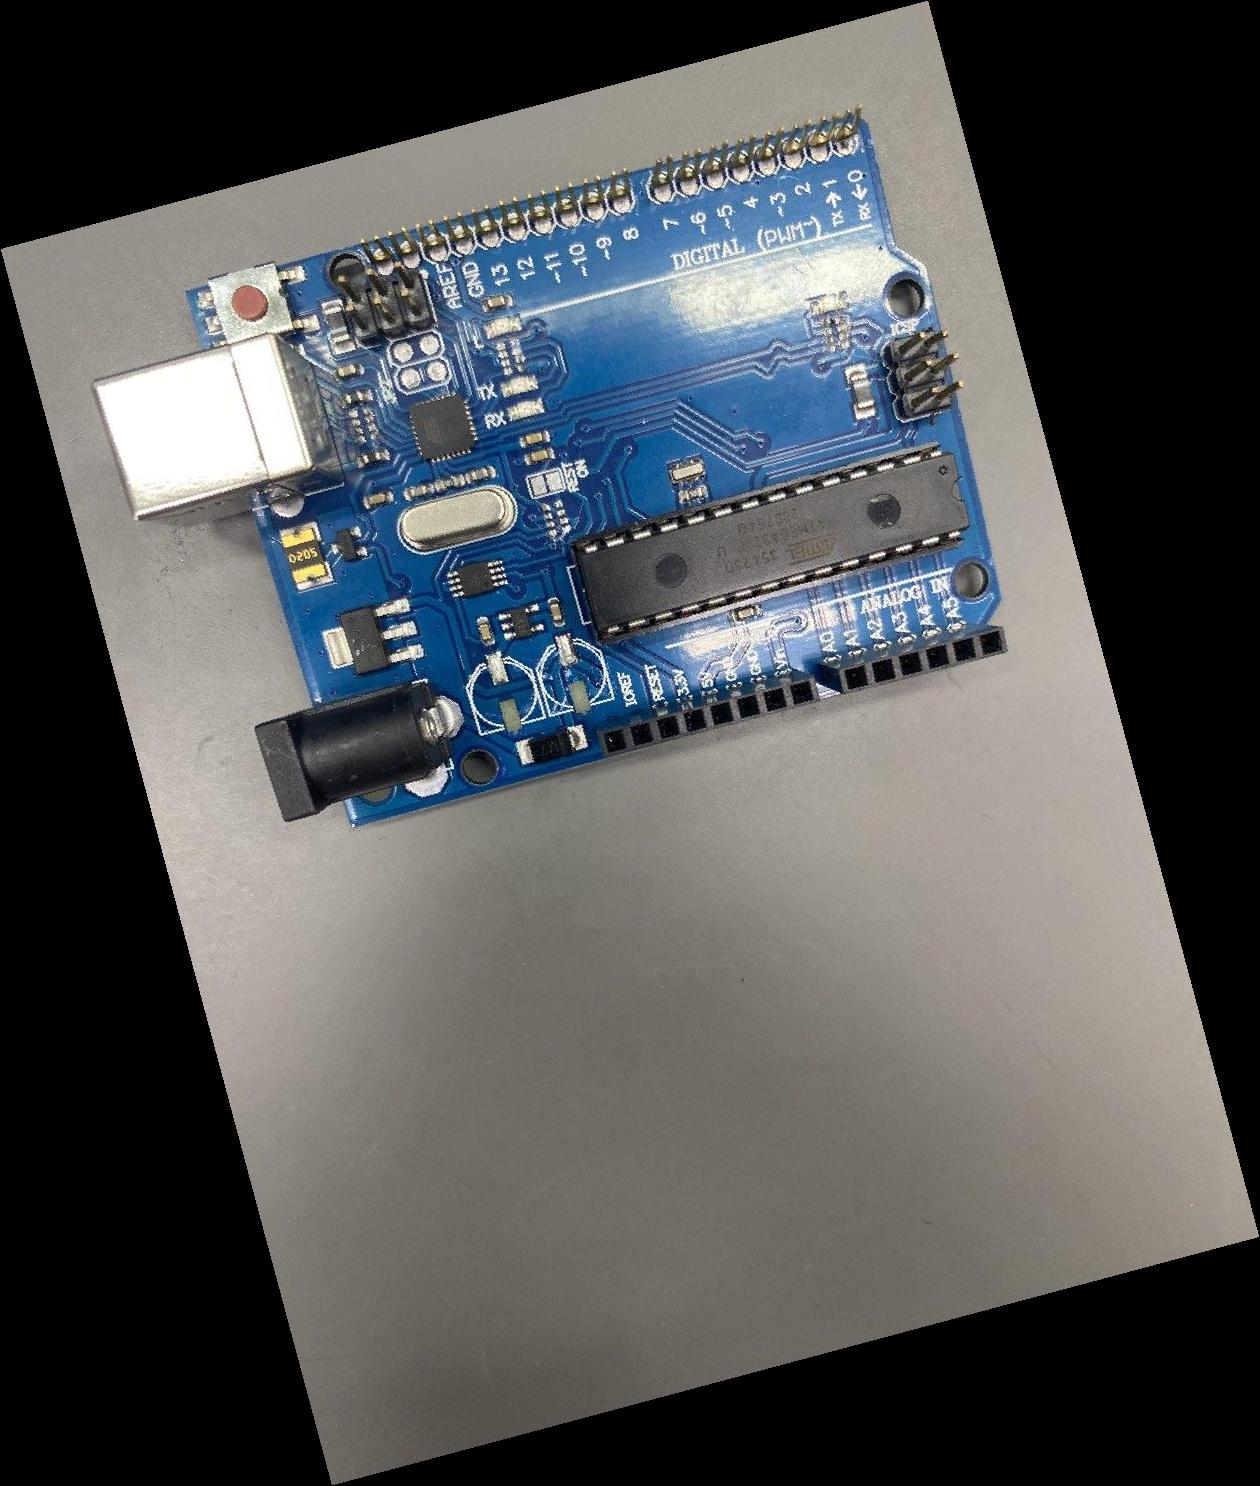ATmega328 chip: (570, 439, 969, 646)
Arduino board: (90, 104, 1007, 829)
USB: (90, 331, 345, 529)
pins: (596, 670, 820, 756), (816, 622, 1009, 694)
